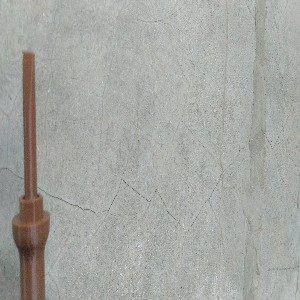obeng: (10, 51, 52, 300)
